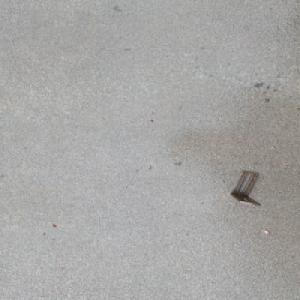MetalPart: (229, 170, 262, 205)
